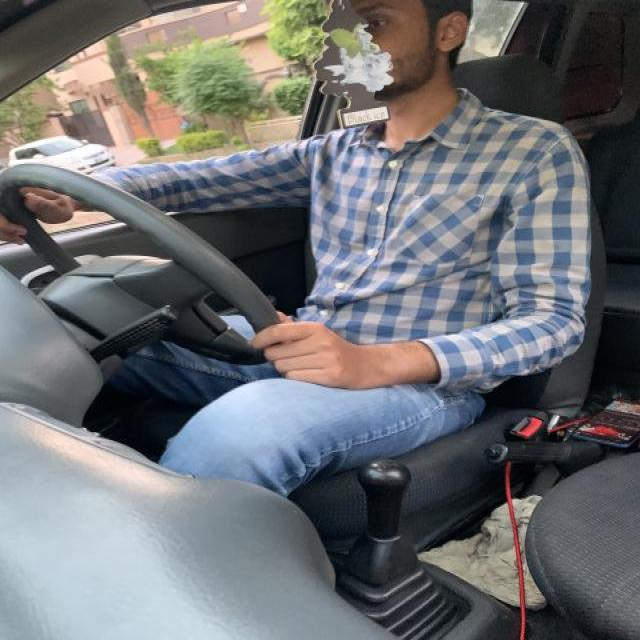no-seatbelt: (157, 125, 598, 396)
